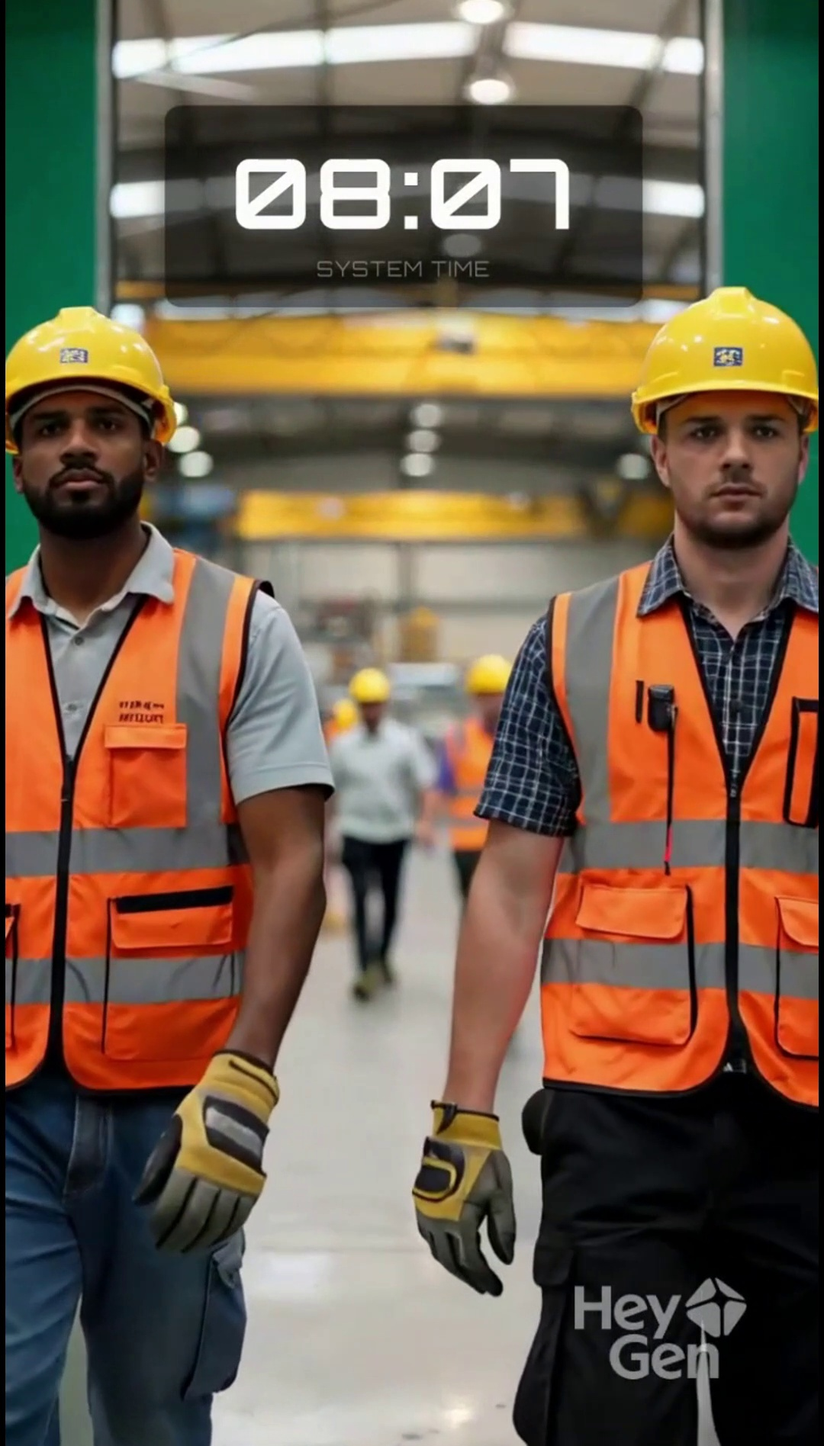Amir: (634, 304, 817, 566)
Sami: (3, 316, 178, 573)
porte_verte: (2, 2, 824, 1251)
temp: (509, 276, 811, 1444), (2, 286, 264, 1408), (166, 109, 644, 304)
